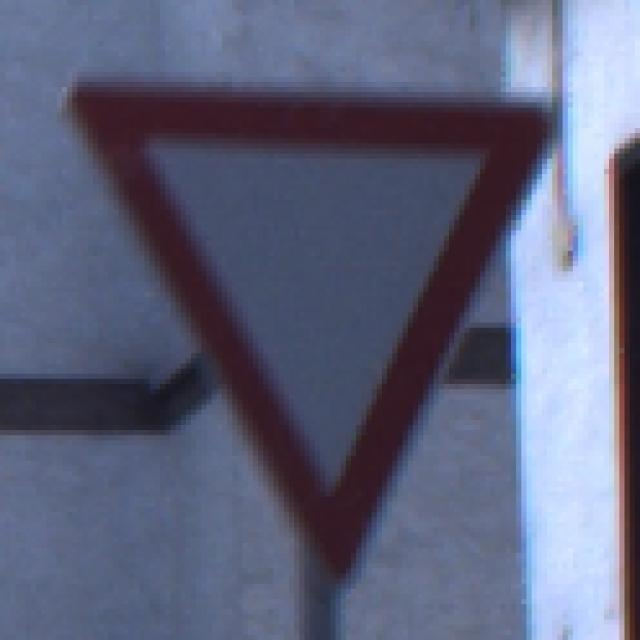give way: (55, 51, 595, 617)
